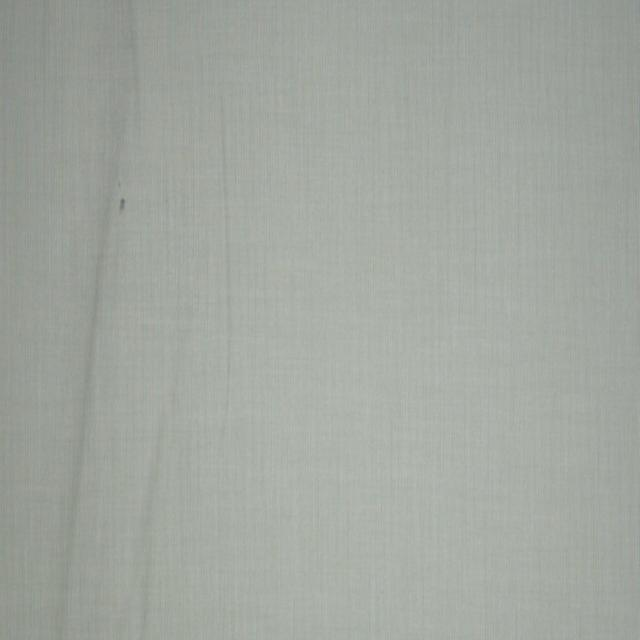dirty: (117, 182, 127, 215)
